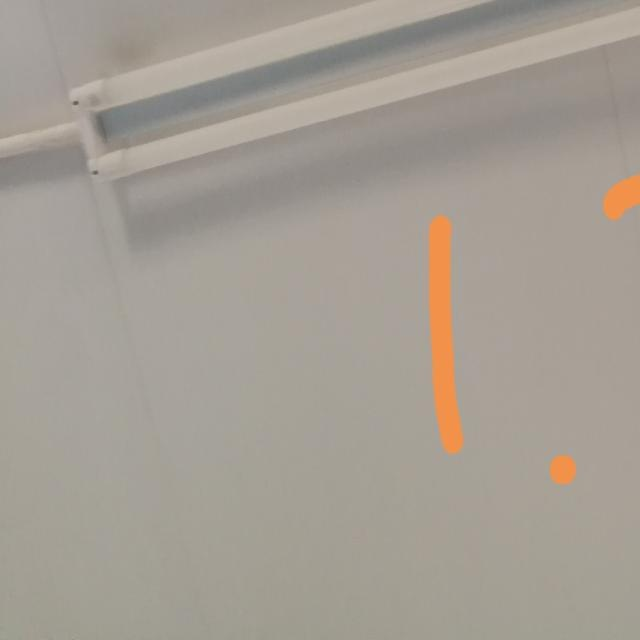fluorescent tube: (59, 0, 640, 201)
